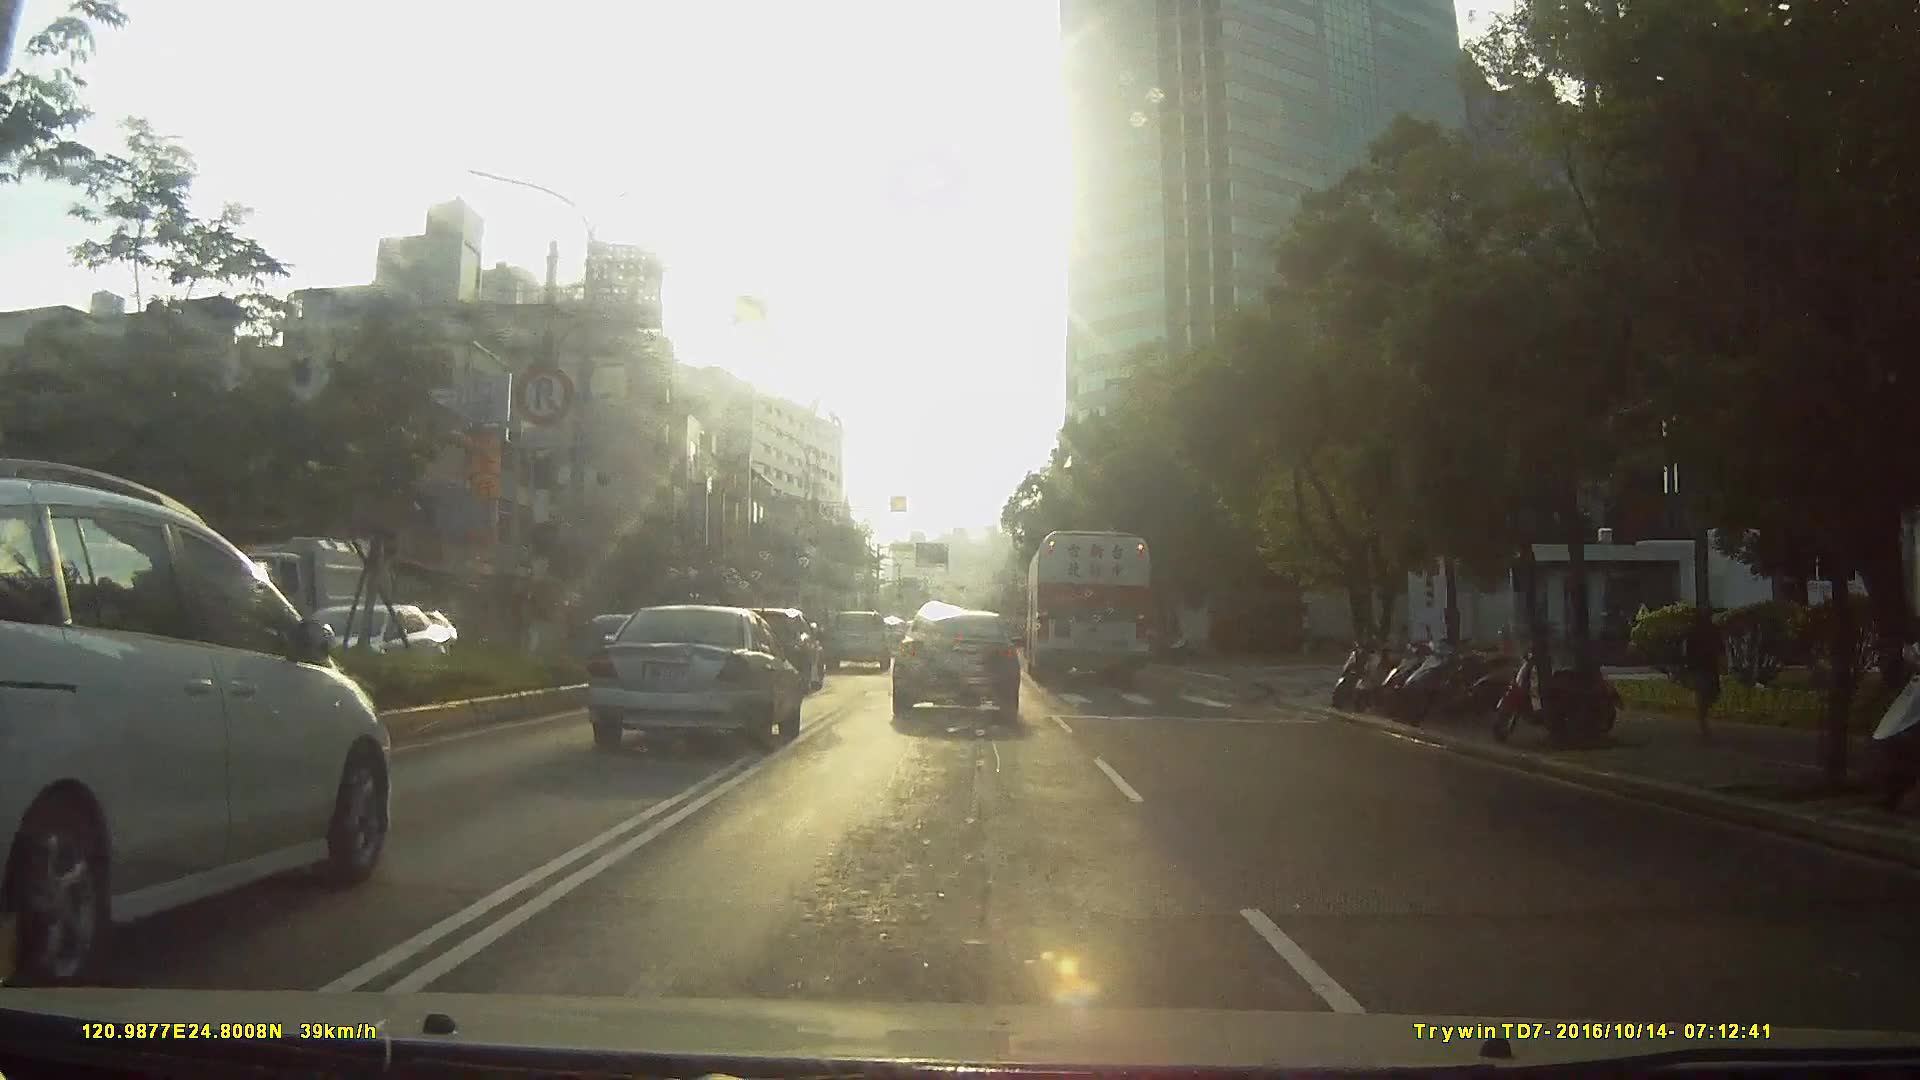pedestrian: (1684, 598, 1732, 734)
vehicle: (1, 454, 403, 974), (250, 556, 684, 868), (576, 597, 798, 749), (184, 528, 360, 650), (1023, 527, 1152, 689), (292, 601, 454, 704), (888, 602, 1020, 718), (822, 606, 890, 672)
